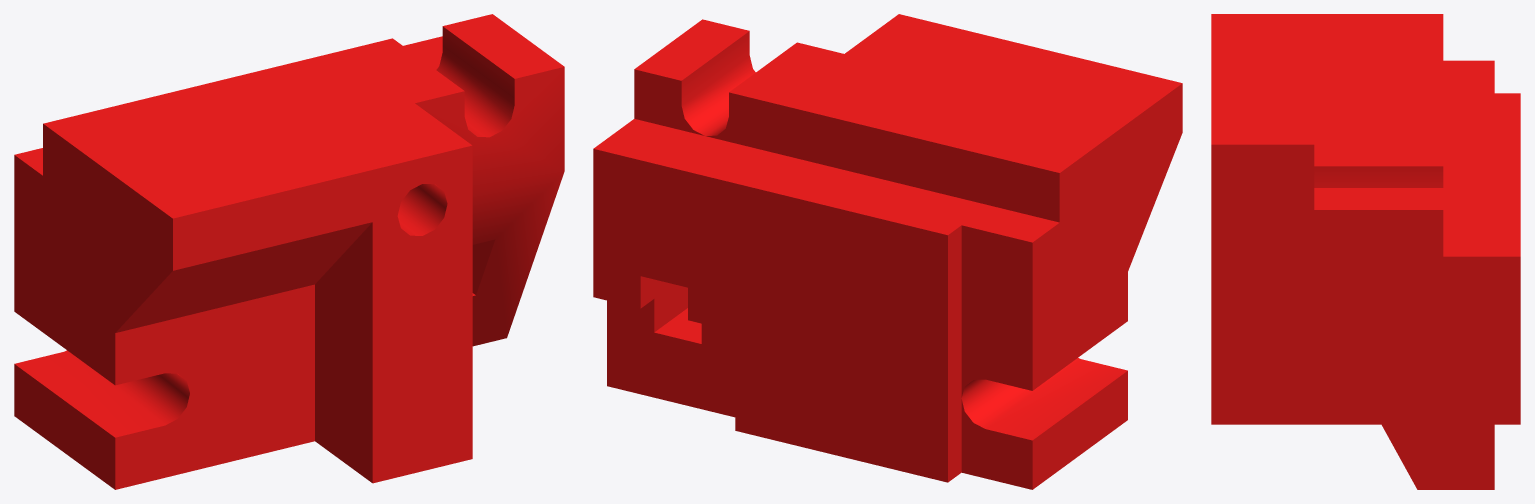
File: peca-2.glb
3 views of the same model, side by side, from view 1: azimuth 30°, elevation 25°; view 2: azimuth 150°, elevation 25°; view 3: azimuth 270°, elevation 25° (orthographic). The views are drawn at different scales.
Parts seen in each view (by area): view 1: 3D_Solid; view 2: 3D_Solid; view 3: 3D_Solid.
Boxes of the visible parts, x1=… form: 3D_Solid: x1=14, y1=14, x2=564, y2=489; 3D_Solid: x1=593, y1=14, x2=1182, y2=489; 3D_Solid: x1=1211, y1=14, x2=1520, y2=489.
Size of the model in its own units: 90 by 60 by 60.
